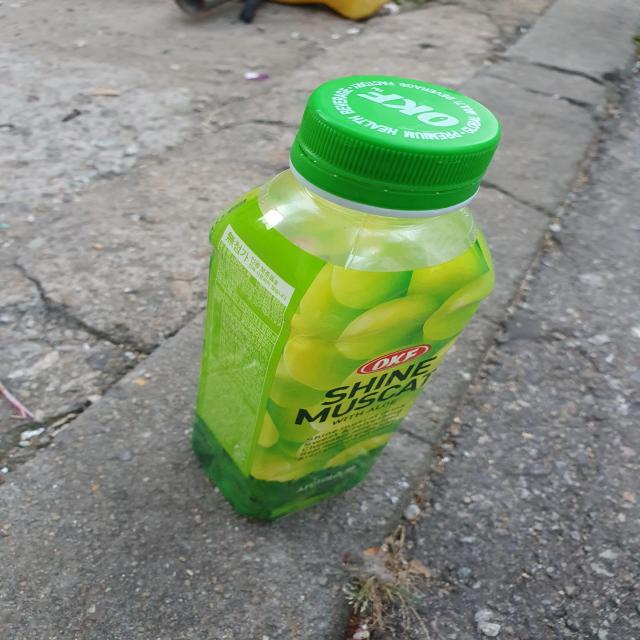plastic: (192, 75, 501, 520)
